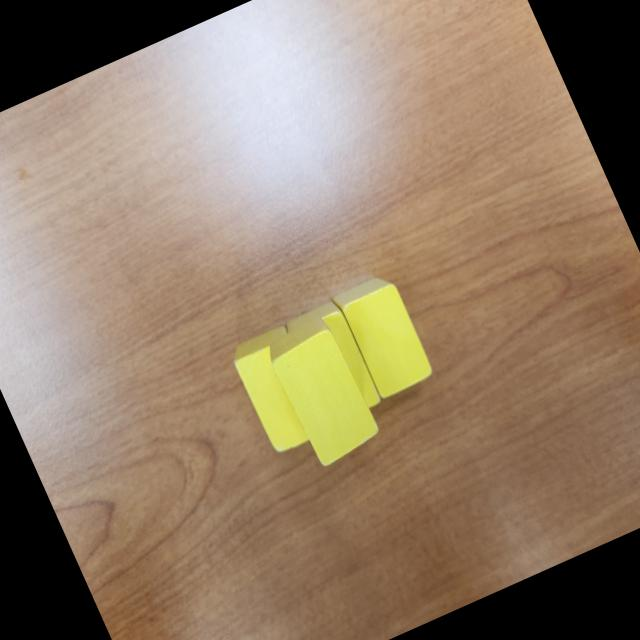yellow: (260, 312, 386, 474), (226, 320, 334, 456), (281, 292, 386, 430), (328, 268, 436, 402)
